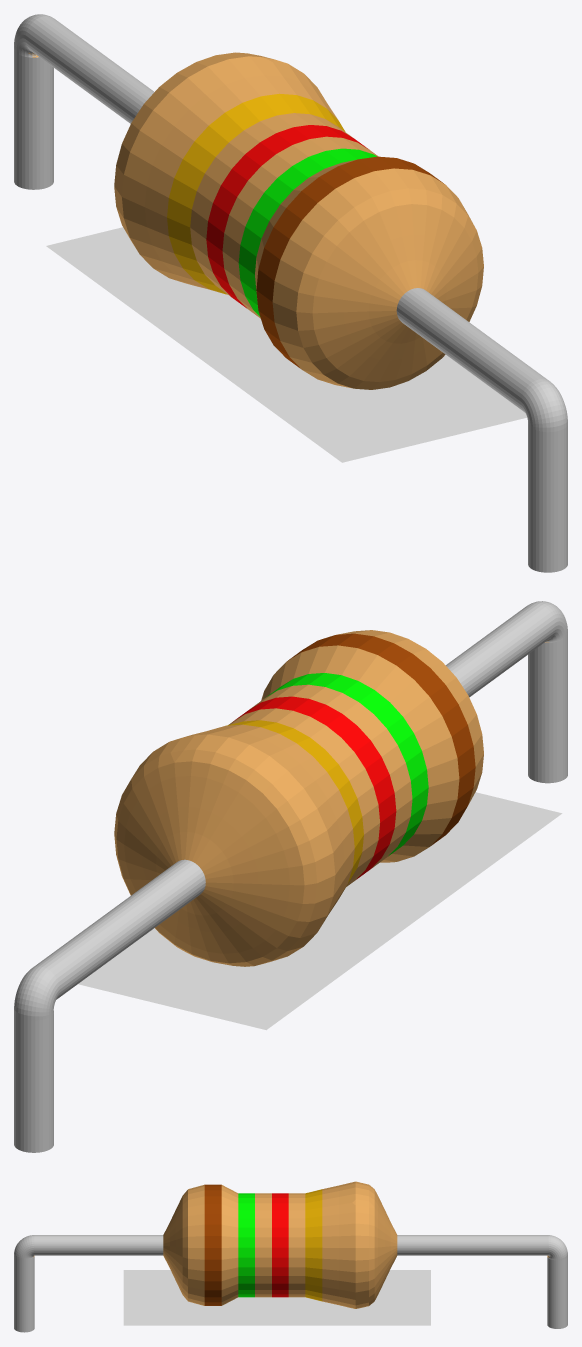
File: R2_tan_2.gltf
The picture shows the model from 3 angles, top to bottom: view 1: azimuth 30°, elevation 25°; view 2: azimuth 150°, elevation 25°; view 3: azimuth 270°, elevation 25°; orthographic projection. The views are drawn at different scales.
Parts seen in each view (by area): view 1: R2_tan_2, R2_tan_2_plane; view 2: R2_tan_2, R2_tan_2_plane; view 3: R2_tan_2, R2_tan_2_plane.
Boxes of the visible parts, left/top/right/bottom form: R2_tan_2: left=14, top=14, right=567, bottom=572; R2_tan_2_plane: left=46, top=227, right=527, bottom=462; R2_tan_2: left=14, top=601, right=567, bottom=1152; R2_tan_2_plane: left=78, top=792, right=562, bottom=1030; R2_tan_2: left=14, top=1181, right=567, bottom=1332; R2_tan_2_plane: left=123, top=1270, right=430, bottom=1325.
Size of the model in its own units: 0.0161 by 0.0189 by 0.0676.
